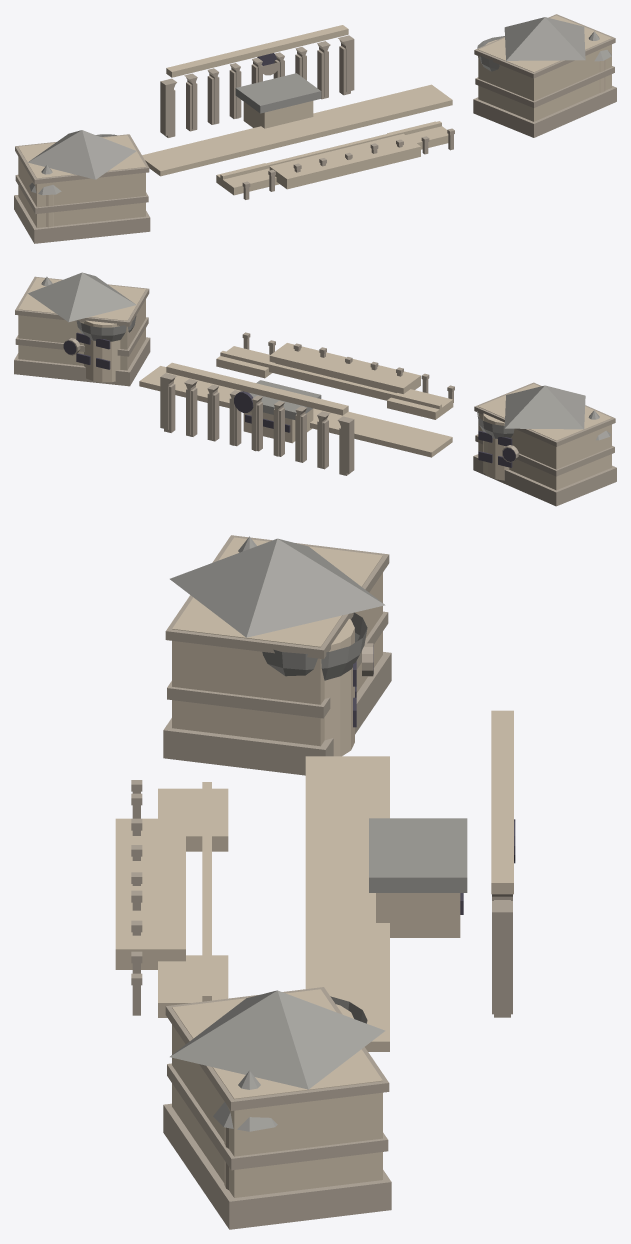
File: palais-trocadero.glb
3 renders of one model, top to bottom at view 1: azimuth 30°, elevation 25°; view 2: azimuth 150°, elevation 25°; view 3: azimuth 270°, elevation 25°, orthographic. The views are drawn at different scales.
Parts seen in each view (by area): view 1: eiffel-trocadero-esplanade, eiffel-trocadero-wing-r, eiffel-trocadero-wing-l, eiffel-trocadero-terrace, eiffel-trocadero-wing-roof-r, eiffel-trocadero-wing-roof-l, eiffel-trocadero-arcade, eiffel-trocadero-plinth-r, eiffel-trocadero-plinth-l, eiffel-trocadero-hall-roof, eiffel-trocadero-colonnade, eiffel-trocadero-hall (+12 smaller); view 2: eiffel-trocadero-wing-l, eiffel-trocadero-wing-r, eiffel-trocadero-esplanade, eiffel-trocadero-arcade, eiffel-trocadero-terrace, eiffel-trocadero-wing-roof-l, eiffel-trocadero-wing-roof-r, eiffel-trocadero-colonnade, eiffel-trocadero-plinth-l, eiffel-trocadero-parapet, eiffel-trocadero-plinth-r, eiffel-trocadero-tower-r (+20 smaller); view 3: eiffel-trocadero-esplanade, eiffel-trocadero-wing-r, eiffel-trocadero-wing-l, eiffel-trocadero-wing-roof-l, eiffel-trocadero-wing-roof-r, eiffel-trocadero-terrace, eiffel-trocadero-plinth-r, eiffel-trocadero-hall-roof, eiffel-trocadero-plinth-l, eiffel-trocadero-colonnade, eiffel-trocadero-hall, eiffel-trocadero-belt-r (+10 smaller).
Part boxes in pixels (left/top/right/bottom): eiffel-trocadero-esplanade: left=142, top=84, right=452, bottom=176; eiffel-trocadero-wing-r: left=478, top=15, right=611, bottom=121; eiffel-trocadero-wing-l: left=18, top=135, right=145, bottom=227; eiffel-trocadero-terrace: left=269, top=133, right=420, bottom=189; eiffel-trocadero-wing-roof-r: left=504, top=17, right=585, bottom=60; eiffel-trocadero-wing-roof-l: left=28, top=130, right=136, bottom=179; eiffel-trocadero-arcade: left=160, top=35, right=354, bottom=135; eiffel-trocadero-plinth-r: left=473, top=86, right=616, bottom=137; eiffel-trocadero-plinth-l: left=14, top=195, right=150, bottom=243; eiffel-trocadero-hall-roof: left=235, top=73, right=321, bottom=113; eiffel-trocadero-colonnade: left=166, top=25, right=348, bottom=77; eiffel-trocadero-hall: left=243, top=101, right=313, bottom=128; eiffel-trocadero-wing-l: left=478, top=384, right=611, bottom=490; eiffel-trocadero-wing-r: left=18, top=277, right=145, bottom=370; eiffel-trocadero-esplanade: left=139, top=366, right=452, bottom=457; eiffel-trocadero-arcade: left=160, top=373, right=354, bottom=473; eiffel-trocadero-terrace: left=269, top=343, right=420, bottom=393; eiffel-trocadero-wing-roof-l: left=504, top=385, right=585, bottom=429; eiffel-trocadero-wing-roof-r: left=28, top=272, right=136, bottom=322; eiffel-trocadero-colonnade: left=166, top=362, right=348, bottom=415; eiffel-trocadero-plinth-l: left=473, top=454, right=616, bottom=506; eiffel-trocadero-parapet: left=220, top=351, right=441, bottom=413; eiffel-trocadero-plinth-r: left=14, top=337, right=150, bottom=386; eiffel-trocadero-tower-r: left=84, top=320, right=120, bottom=382; eiffel-trocadero-esplanade: left=305, top=756, right=389, bottom=1051; eiffel-trocadero-wing-r: left=172, top=989, right=382, bottom=1197; eiffel-trocadero-wing-l: left=172, top=537, right=382, bottom=746; eiffel-trocadero-wing-roof-l: left=170, top=538, right=385, bottom=637; eiffel-trocadero-wing-roof-r: left=170, top=990, right=385, bottom=1089; eiffel-trocadero-terrace: left=115, top=818, right=185, bottom=969; eiffel-trocadero-plinth-r: left=163, top=1103, right=391, bottom=1229; eiffel-trocadero-hall-roof: left=369, top=818, right=467, bottom=892; eiffel-trocadero-plinth-l: left=163, top=652, right=391, bottom=775; eiffel-trocadero-colonnade: left=491, top=710, right=513, bottom=894; eiffel-trocadero-hall: left=376, top=893, right=460, bottom=937; eiffel-trocadero-belt-r: left=167, top=1063, right=388, bottom=1170.
Bounding box in the file's own units: 191 × 28.4 × 56.8.
